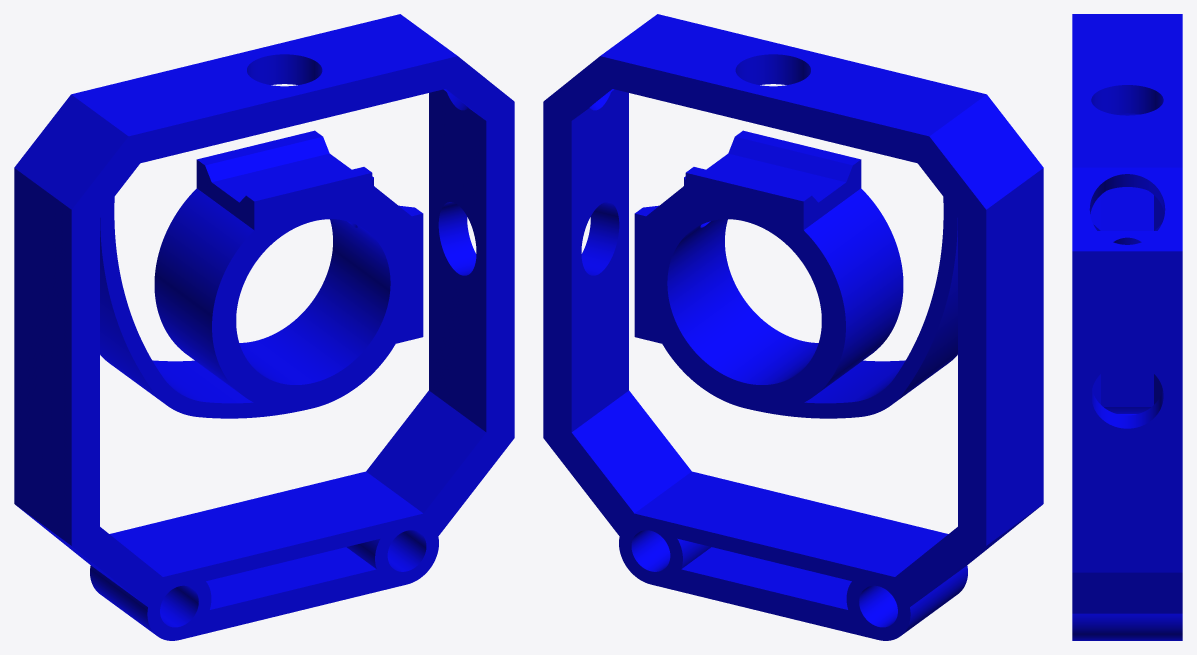
The model's file is V5_SM05 Lens Mount (V5).obj.
3 views of the same model, side by side, from view 1: azimuth 30°, elevation 25°; view 2: azimuth 150°, elevation 25°; view 3: azimuth 270°, elevation 25° (orthographic). The views are drawn at different scales.
Visible parts, largest first — view 1: Solid1:21; view 2: Solid1:21; view 3: Solid1:21.
Part boxes in pixels (x1,y1,x2,y2): Solid1:21: (14,14,514,640); Solid1:21: (543,14,1043,640); Solid1:21: (1072,14,1182,640).
Bounding box in the file's own units: 38.94 × 43.33 × 8.75.
